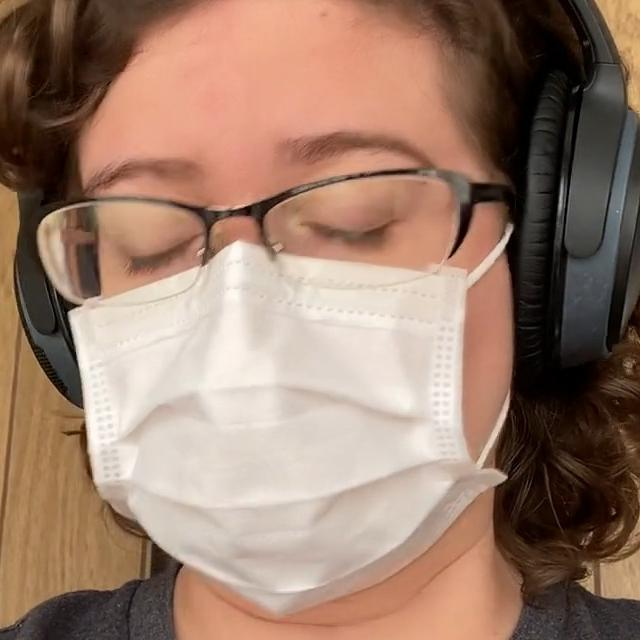Hardhat: (27, 0, 557, 87)
Mask: (56, 231, 520, 596)
Person: (0, 0, 640, 640)
